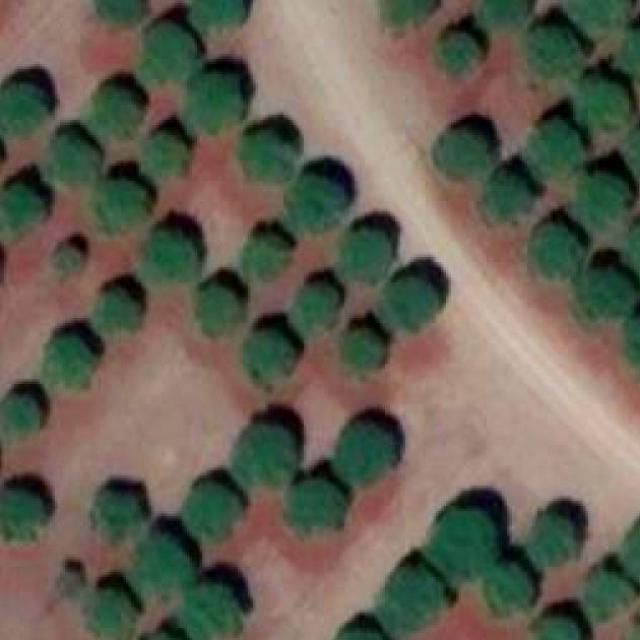Tree: (428, 509, 492, 583), (126, 536, 195, 596), (380, 570, 441, 636), (230, 426, 294, 486), (336, 422, 395, 483), (182, 480, 241, 540), (284, 176, 344, 234), (179, 584, 240, 640), (138, 24, 194, 84), (138, 230, 197, 286), (187, 74, 243, 130), (372, 279, 436, 328), (286, 478, 344, 532), (526, 123, 580, 179), (90, 178, 146, 232), (575, 176, 629, 230), (575, 79, 629, 133), (575, 272, 634, 321), (40, 338, 96, 387), (92, 488, 142, 542), (529, 227, 583, 276), (526, 26, 580, 74), (244, 333, 294, 384), (82, 590, 133, 640), (44, 135, 96, 184), (0, 181, 43, 239), (0, 84, 45, 138), (482, 172, 530, 222), (291, 282, 336, 334), (436, 130, 486, 176), (339, 232, 390, 277), (138, 133, 187, 179), (531, 516, 575, 567), (243, 130, 288, 179), (565, 0, 629, 34), (487, 564, 532, 612), (583, 572, 629, 618), (197, 284, 238, 334), (240, 235, 285, 280), (93, 87, 138, 131), (0, 491, 43, 536), (93, 291, 138, 331), (341, 331, 382, 372), (441, 32, 479, 72), (0, 396, 38, 435), (189, 0, 245, 26), (385, 0, 434, 28), (482, 0, 531, 28), (527, 619, 578, 640), (96, 0, 142, 23), (619, 28, 640, 72), (624, 524, 640, 580), (624, 321, 640, 372), (55, 245, 80, 275), (629, 224, 640, 282), (57, 572, 82, 595), (627, 129, 640, 173), (331, 633, 390, 640), (627, 617, 640, 640)
